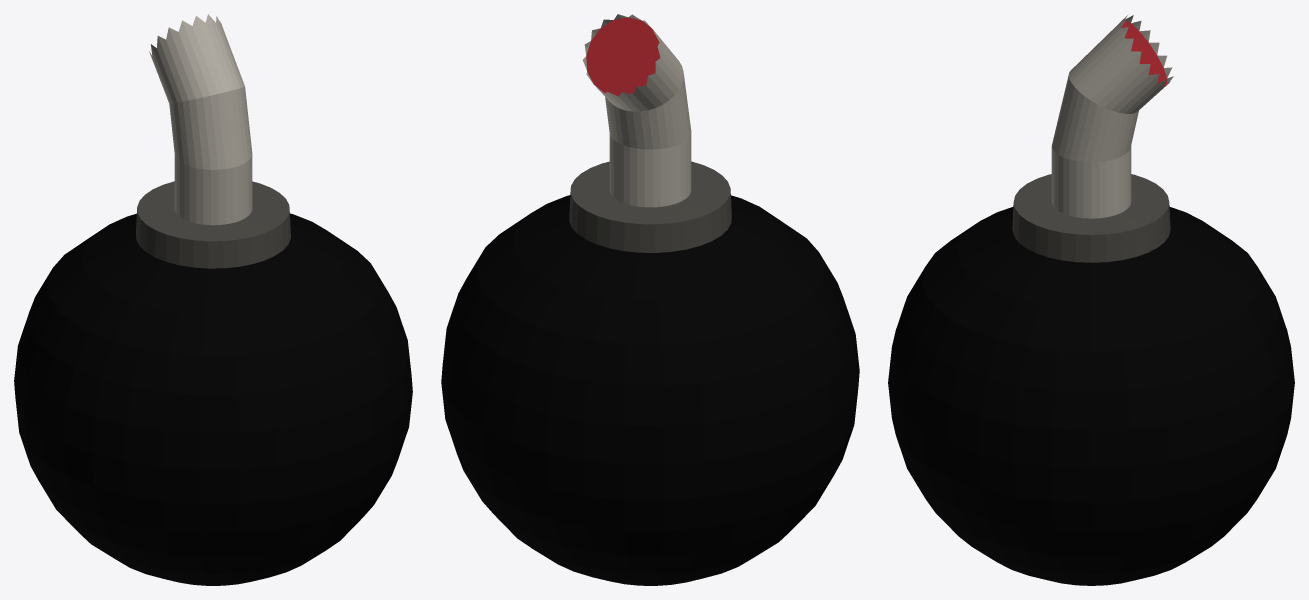
The model's file is Bomb.obj.
3 renders of one model, left to right at view 1: azimuth 30°, elevation 25°; view 2: azimuth 150°, elevation 25°; view 3: azimuth 270°, elevation 25°, orthographic. The views are drawn at different scales.
Visible parts, largest first — view 1: 球; view 2: 球; view 3: 球.
Boxes of the visible parts, x1,y1,x2,y2 form: 球: (14,14,412,585); 球: (441,14,859,585); 球: (888,15,1294,585).
Bounding box in the file's own units: 2 × 2.98 × 2.
Materials: 1 (1 with a texture image).
